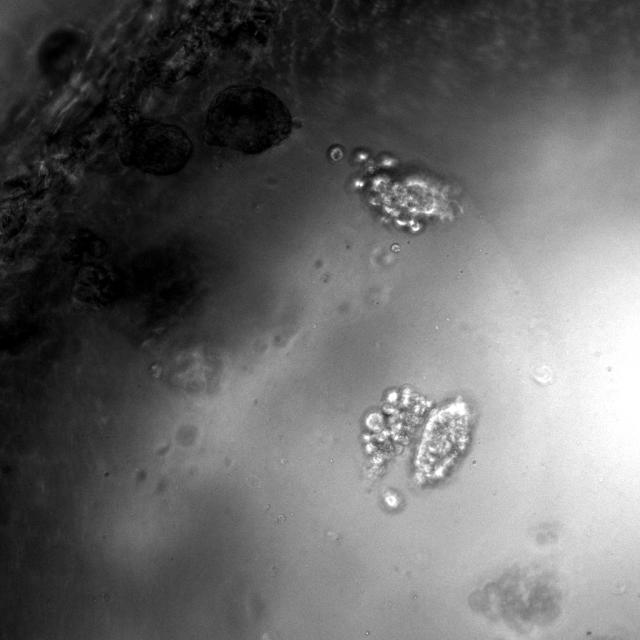organoid: (360, 385, 474, 486), (349, 147, 462, 233), (469, 564, 562, 632), (205, 85, 292, 153), (379, 487, 404, 512)
